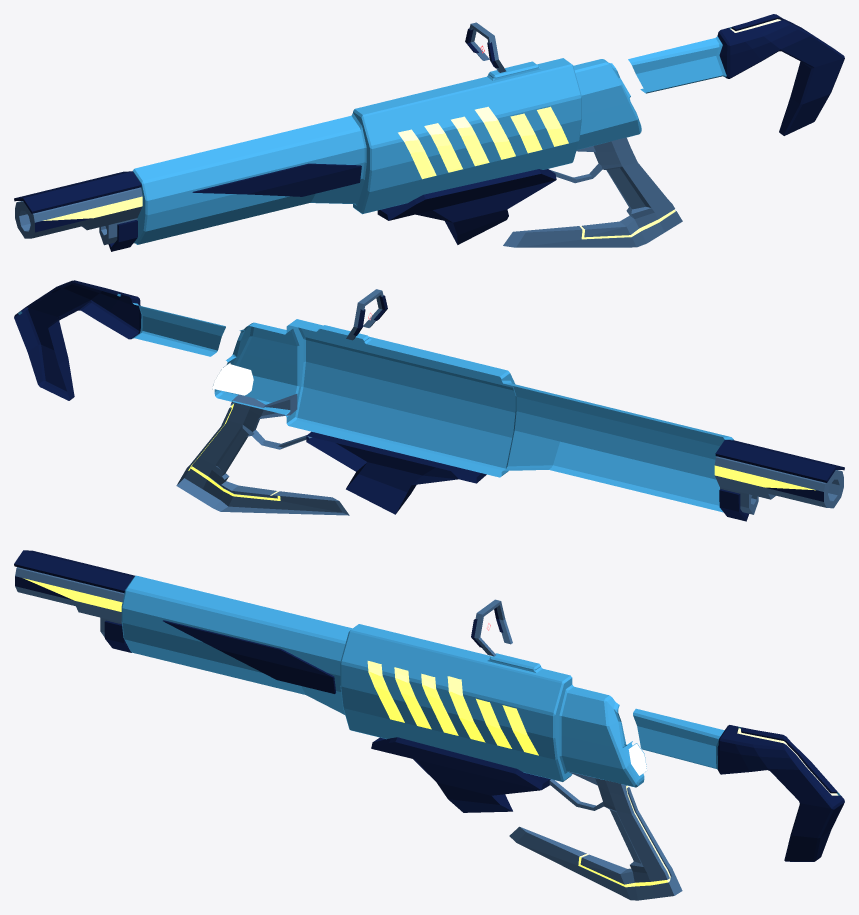
File: gun.glb
3 views of the same model, one above another, from view 1: azimuth 30°, elevation 25°; view 2: azimuth 150°, elevation 25°; view 3: azimuth 330°, elevation 25° (orthographic).
Visible parts, largest first — view 1: Cube.002; view 2: Cube.002; view 3: Cube.002.
Boxes of the visible parts, x1,y1,x2,y2 form: Cube.002: (14,14,844,251); Cube.002: (14,280,844,521); Cube.002: (14,550,844,900).
Bounding box in the file's own units: 2.52 × 0.7385 × 0.1832.
